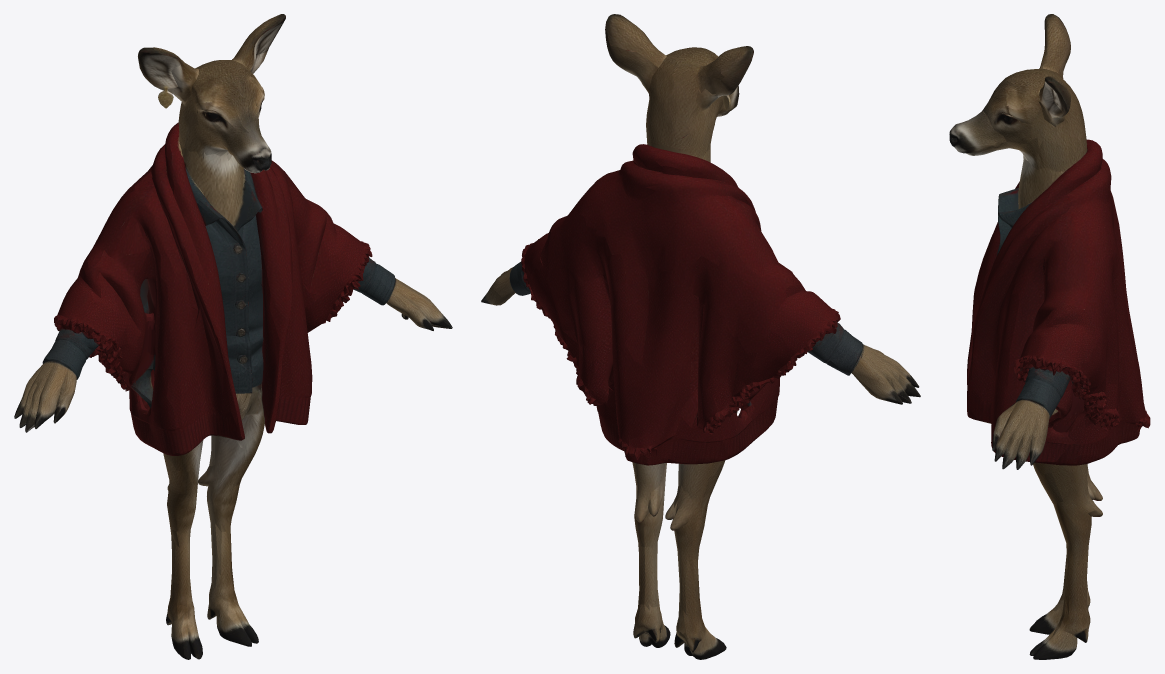
File: karaca-mesh.glb
3 views of the same model, side by side, from view 1: azimuth 30°, elevation 25°; view 2: azimuth 150°, elevation 25°; view 3: azimuth 270°, elevation 25° (orthographic). The views are drawn at different scales.
Parts seen in each view (by area): view 1: Mesh_0; view 2: Mesh_0; view 3: Mesh_0.
Boxes of the visible parts, x1,y1,x2,y2 form: Mesh_0: [14, 14, 452, 659]; Mesh_0: [481, 14, 920, 659]; Mesh_0: [949, 14, 1150, 659].
Size of the model in its own units: 1.38 by 1.9 by 0.5805.
1 material, 1 textured.
